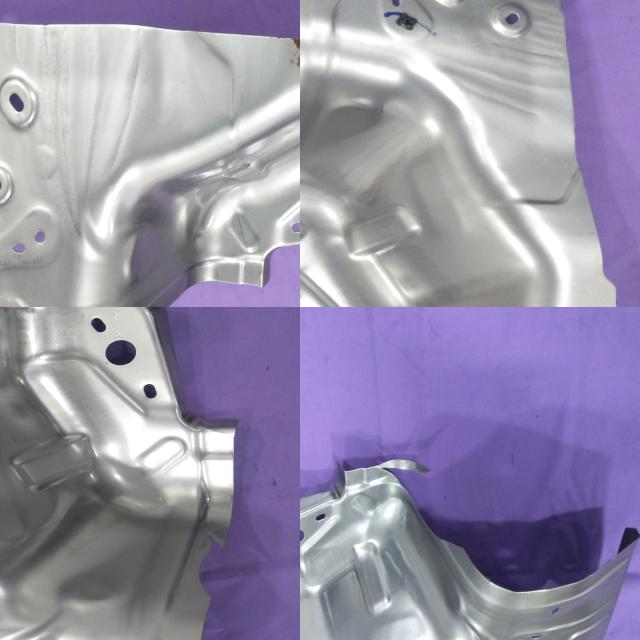Defect: (379, 452, 455, 528), (190, 528, 230, 610)
Healthy: (300, 0, 620, 307)
rust: (254, 24, 300, 87)
